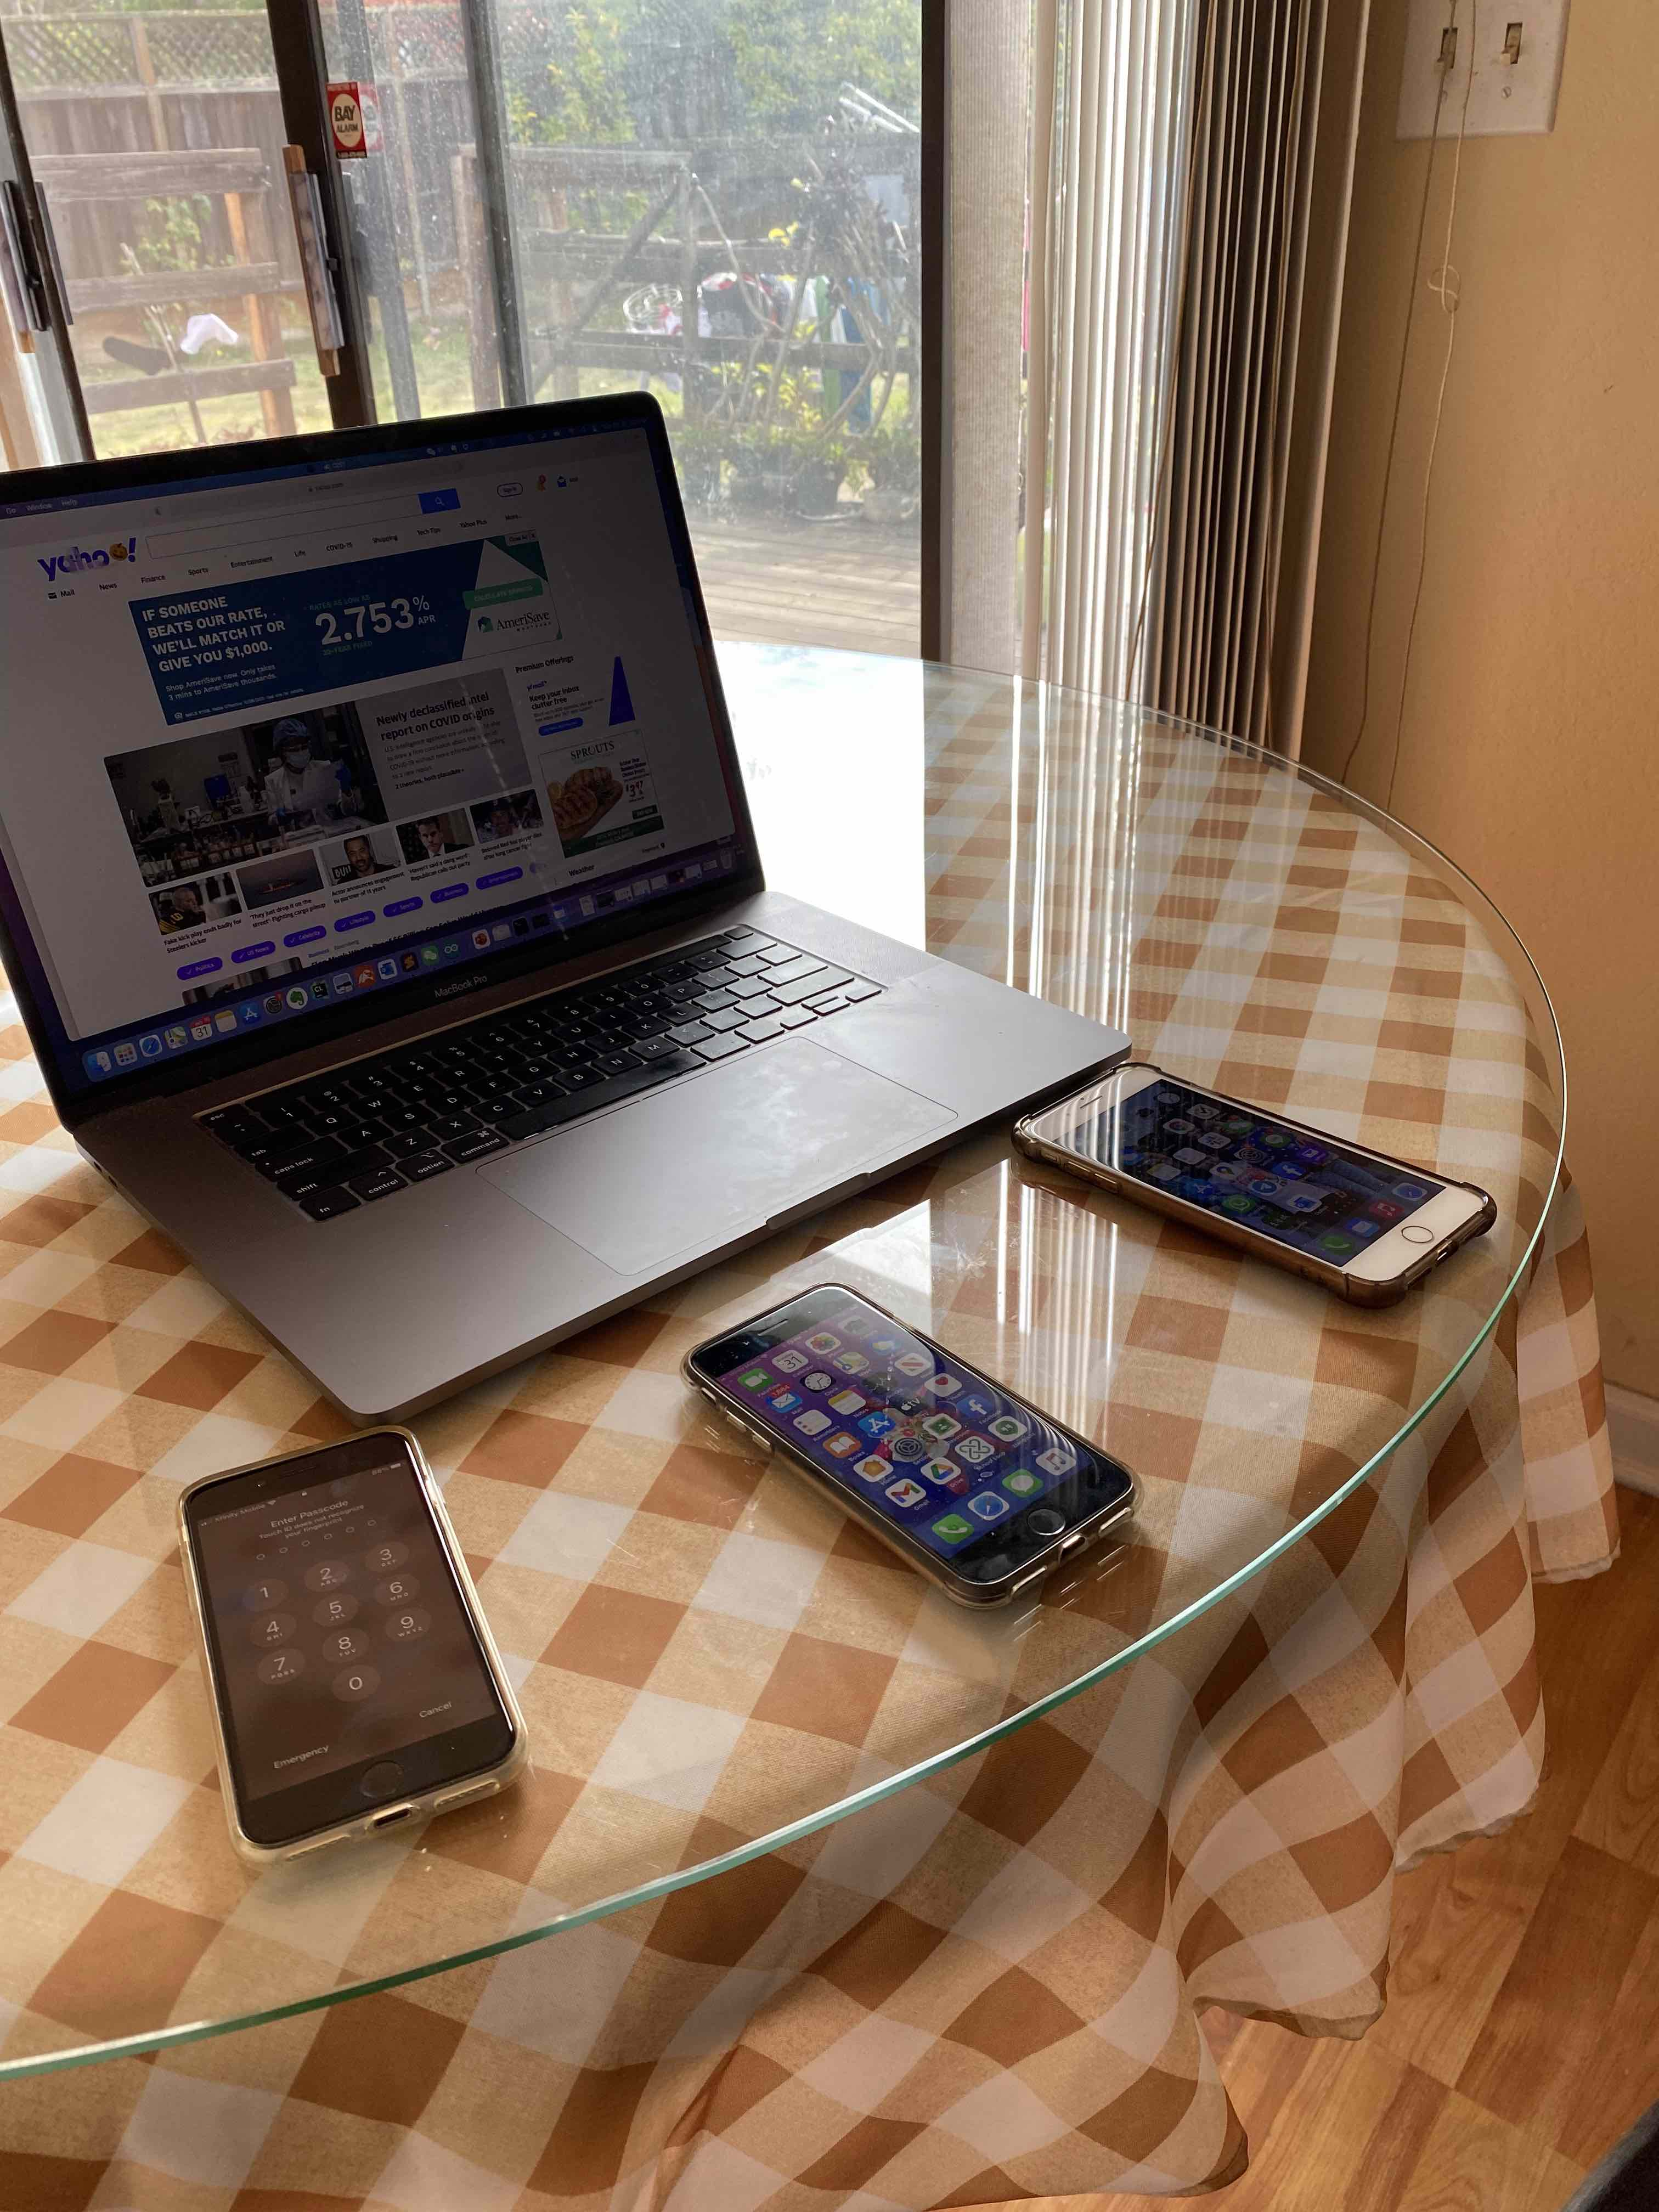Cell Phone: (185, 1437, 526, 1857), (690, 1287, 1141, 1597), (1007, 1068, 1506, 1299)
